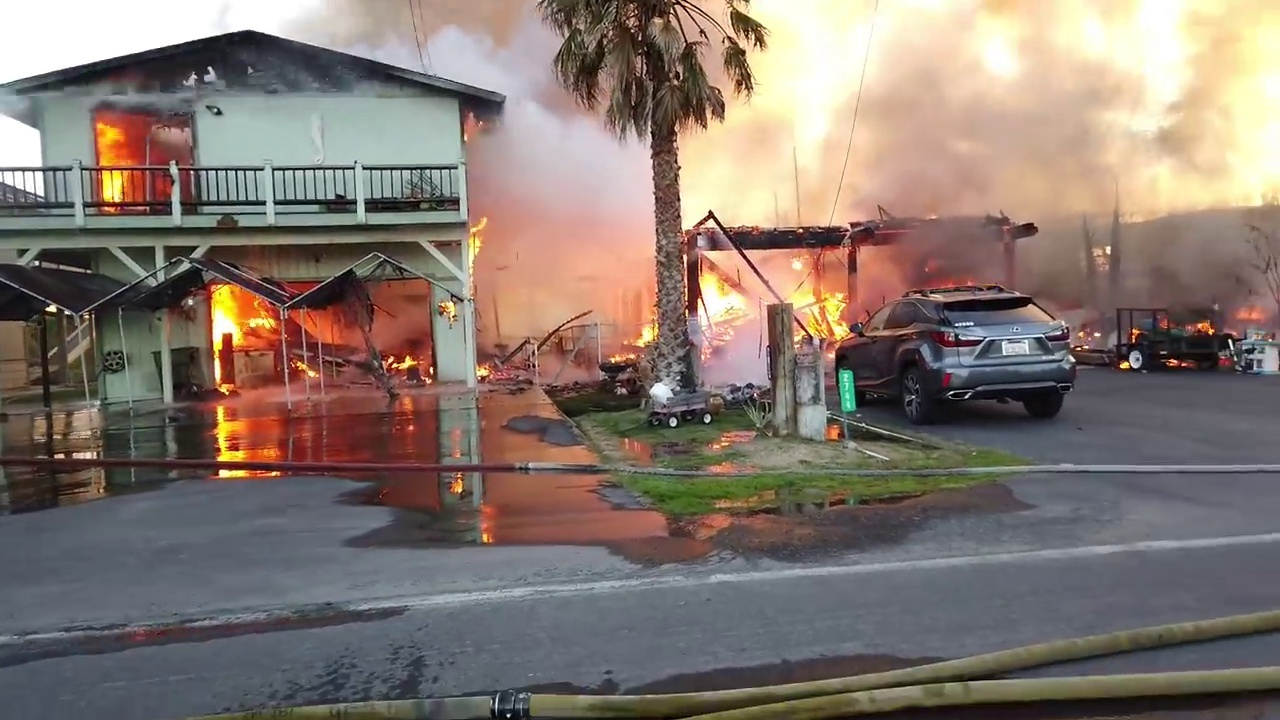fire: (1126, 299, 1278, 356), (697, 257, 752, 317), (795, 283, 852, 340), (605, 320, 665, 365), (460, 214, 499, 282), (432, 297, 466, 330), (384, 347, 428, 372), (473, 357, 504, 386), (1186, 316, 1217, 333)
smoke: (854, 47, 1277, 303), (467, 115, 655, 216), (683, 123, 854, 222), (498, 219, 656, 319), (757, 2, 854, 119), (857, 3, 1080, 46), (702, 327, 770, 385)
